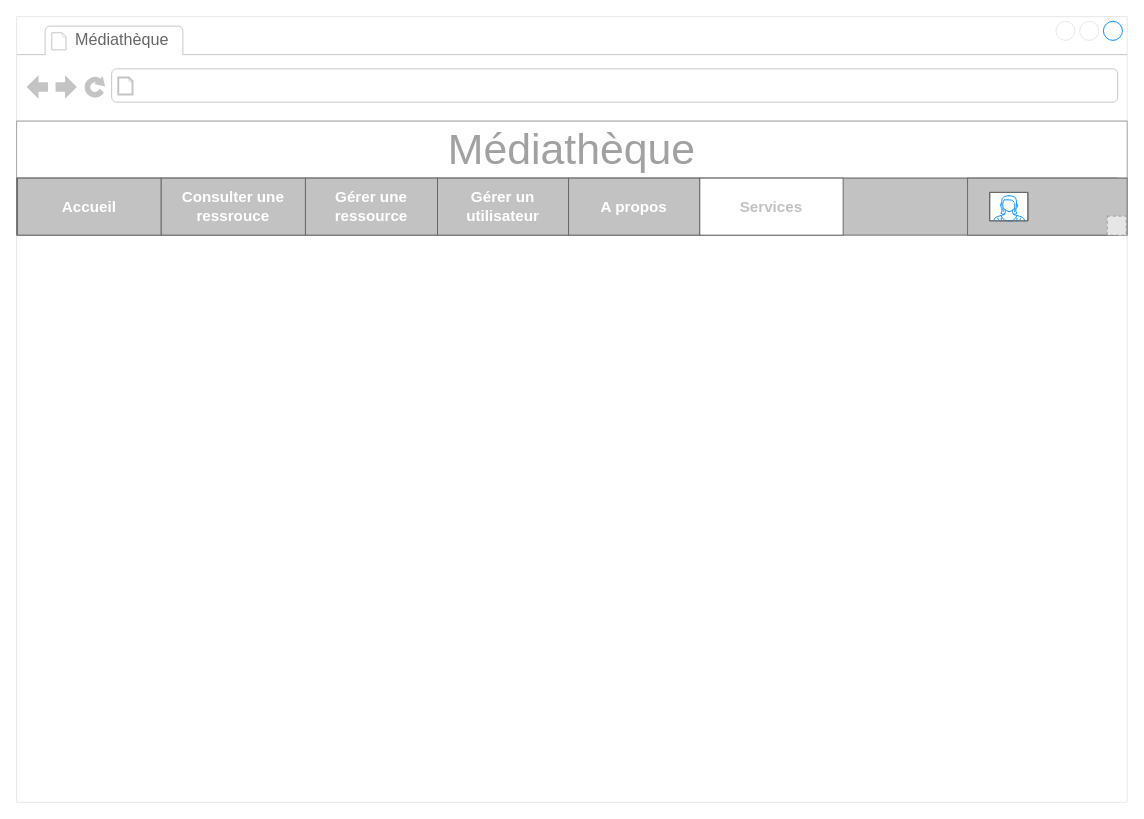
This 1144x819 diagram has some shape labels left out. Grey dashed boxes stand in for pictures. Here are the shapes that lost their labels. From the top down, the box of each, then its label:
(139, 73, 378, 98): https://www.mediatheque.fr
(967, 177, 1127, 235): Mon profil
